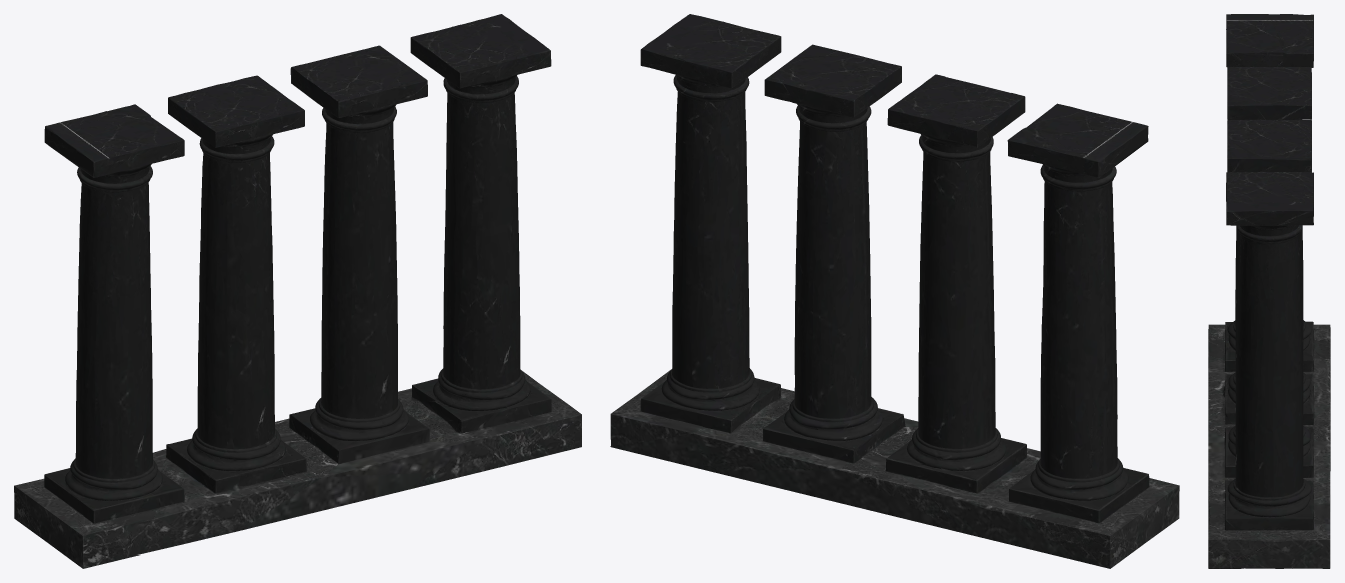
File: board_podium.glb
3 views of the same model, side by side, from view 1: azimuth 30°, elevation 25°; view 2: azimuth 150°, elevation 25°; view 3: azimuth 270°, elevation 25° (orthographic). The views are drawn at different scales.
Bounding box in the file's own units: 1.9 × 1.44 × 0.4567.
Materials: 1 (1 with a texture image).
